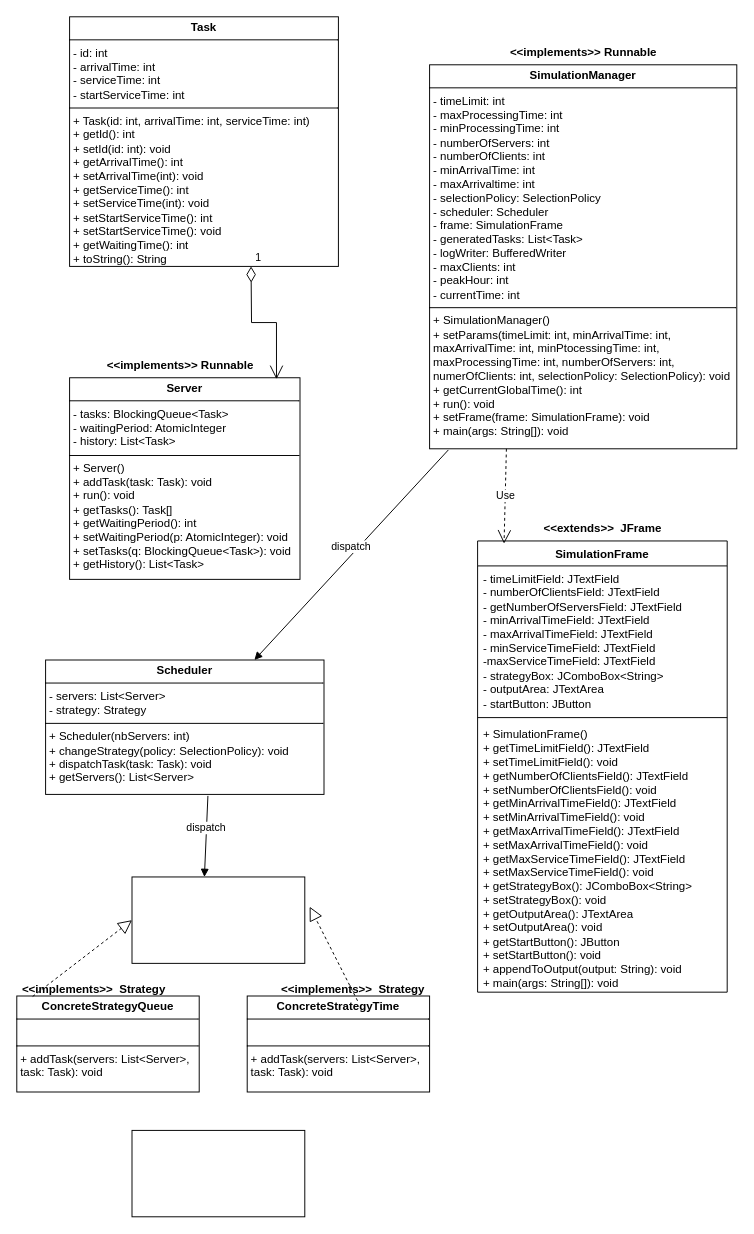
Image size: 754x1234. Some labels were removed from this diagram. Each missing label, with the centre of its shape:
"<<enumeration>> SelectionPolicy + SHORTEST_QUEUE + SHORTES_TIME" goes at point 218,1173.
"<<Interface>> Strategy + addTask(servers: List<Server>, task: Task): void" goes at point 218,919.
